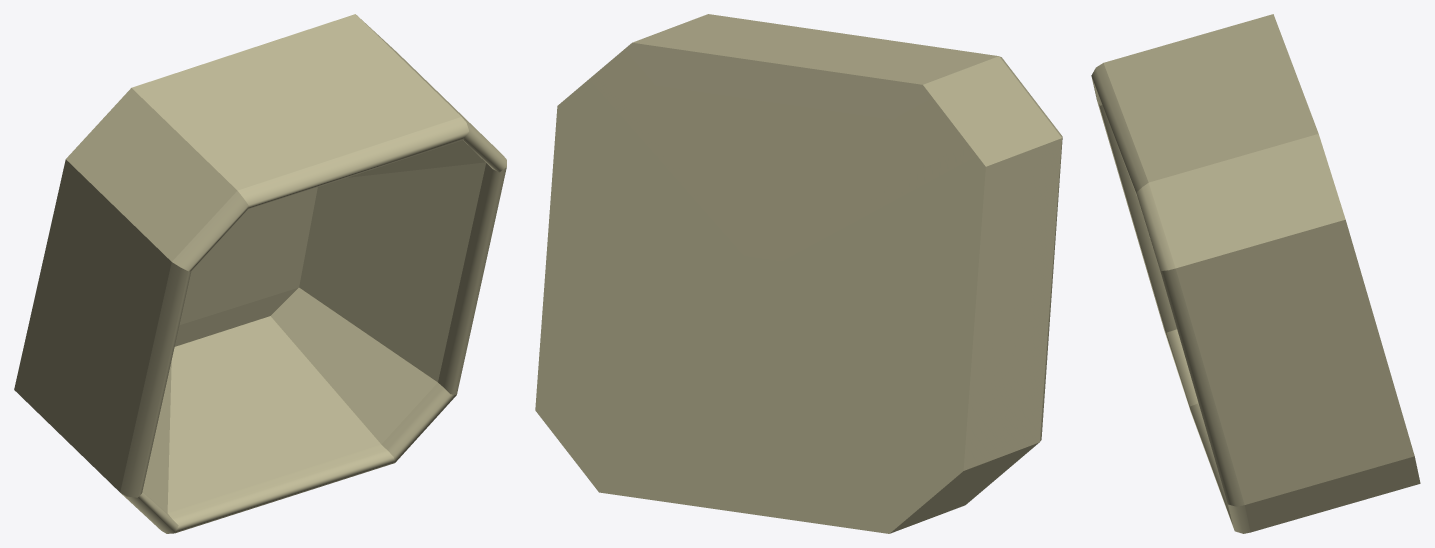
File: BR1_8shapes_Square_Classic_Metal.001 3.glb
3 views of the same model, side by side, from view 1: azimuth 30°, elevation 25°; view 2: azimuth 150°, elevation 25°; view 3: azimuth 270°, elevation 25° (orthographic). The views are drawn at different scales.
Visible parts, largest first — view 1: BR1_8shapes_Square_Classic_Metal.001; view 2: BR1_8shapes_Square_Classic_Metal.001; view 3: BR1_8shapes_Square_Classic_Metal.001.
Part boxes in pixels (box(x1,y1,x2,y2)): BR1_8shapes_Square_Classic_Metal.001: box(14, 14, 506, 533); BR1_8shapes_Square_Classic_Metal.001: box(535, 14, 1062, 533); BR1_8shapes_Square_Classic_Metal.001: box(1091, 14, 1420, 533).
Size of the model in its own units: 0.4448 by 0.4508 by 0.3314.
